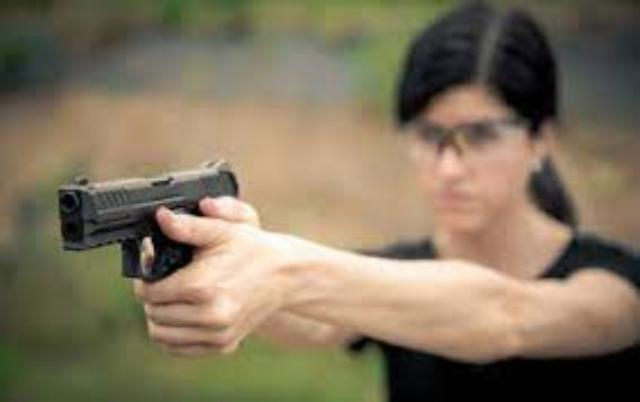handgun: (54, 153, 242, 299)
